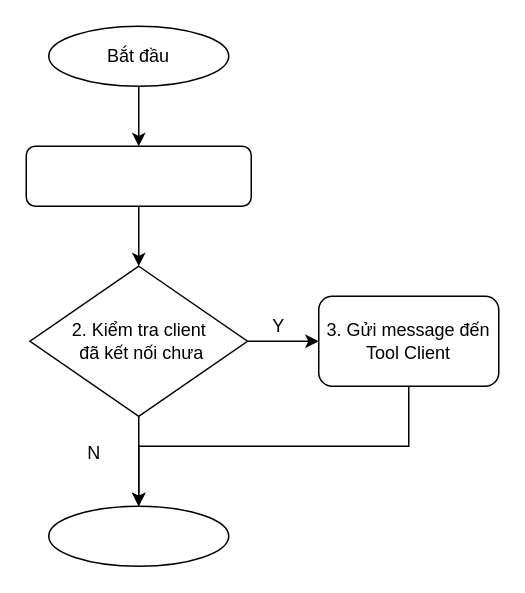
Image size: 525x593. Some labels were removed from this diagram. Here are the shapes that lost their labels. From the top down, the centre of each, then its label:
At (138,175): "1. Duyệt danh sách client user đã chọn".
At (138,535): "Kết thúc".
